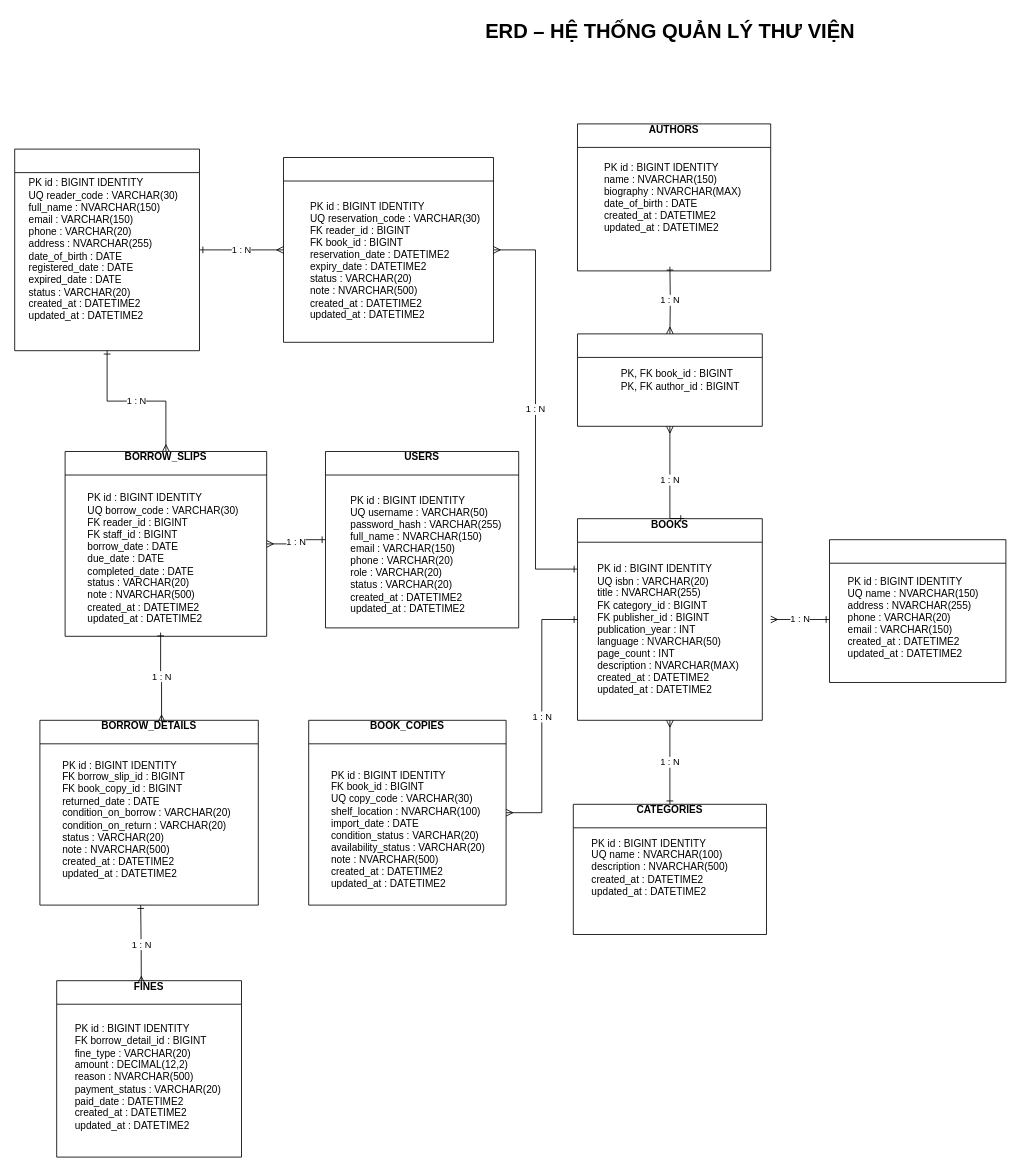
This 1021x1172 diagram has some shape labels left out. The shapes that lost their labels are listed below. From the top down, each one's box as (x1, y1, x2, y2) in pixels, then its label:
(14, 148, 200, 351): READERS
(283, 157, 494, 342): RESERVATIONS
(577, 333, 762, 426): BOOK_AUTHORS
(829, 539, 1006, 682): PUBLISHERS
